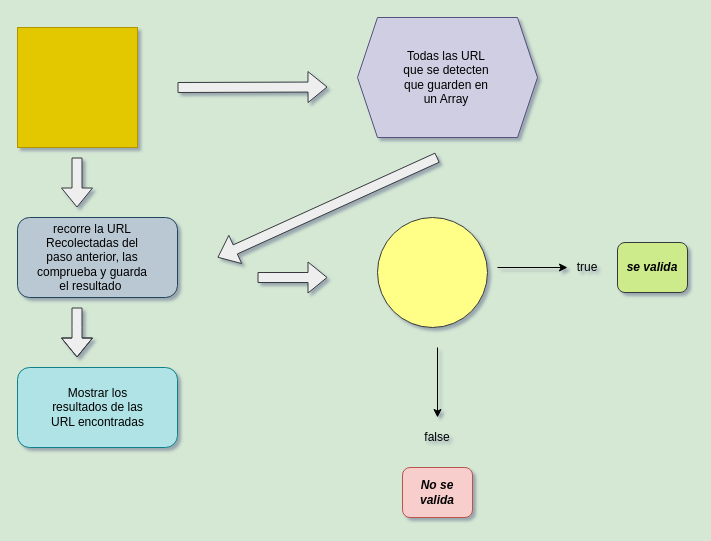
This 711x541 diagram has some shape labels left out. Here are the shapes that lost their labels. From the top down, the centre of each, then its label:
At point (77, 87): "Crear una funcion para que pueda leer archivos y detectar las URL".
At point (432, 272): "Si se valida".
